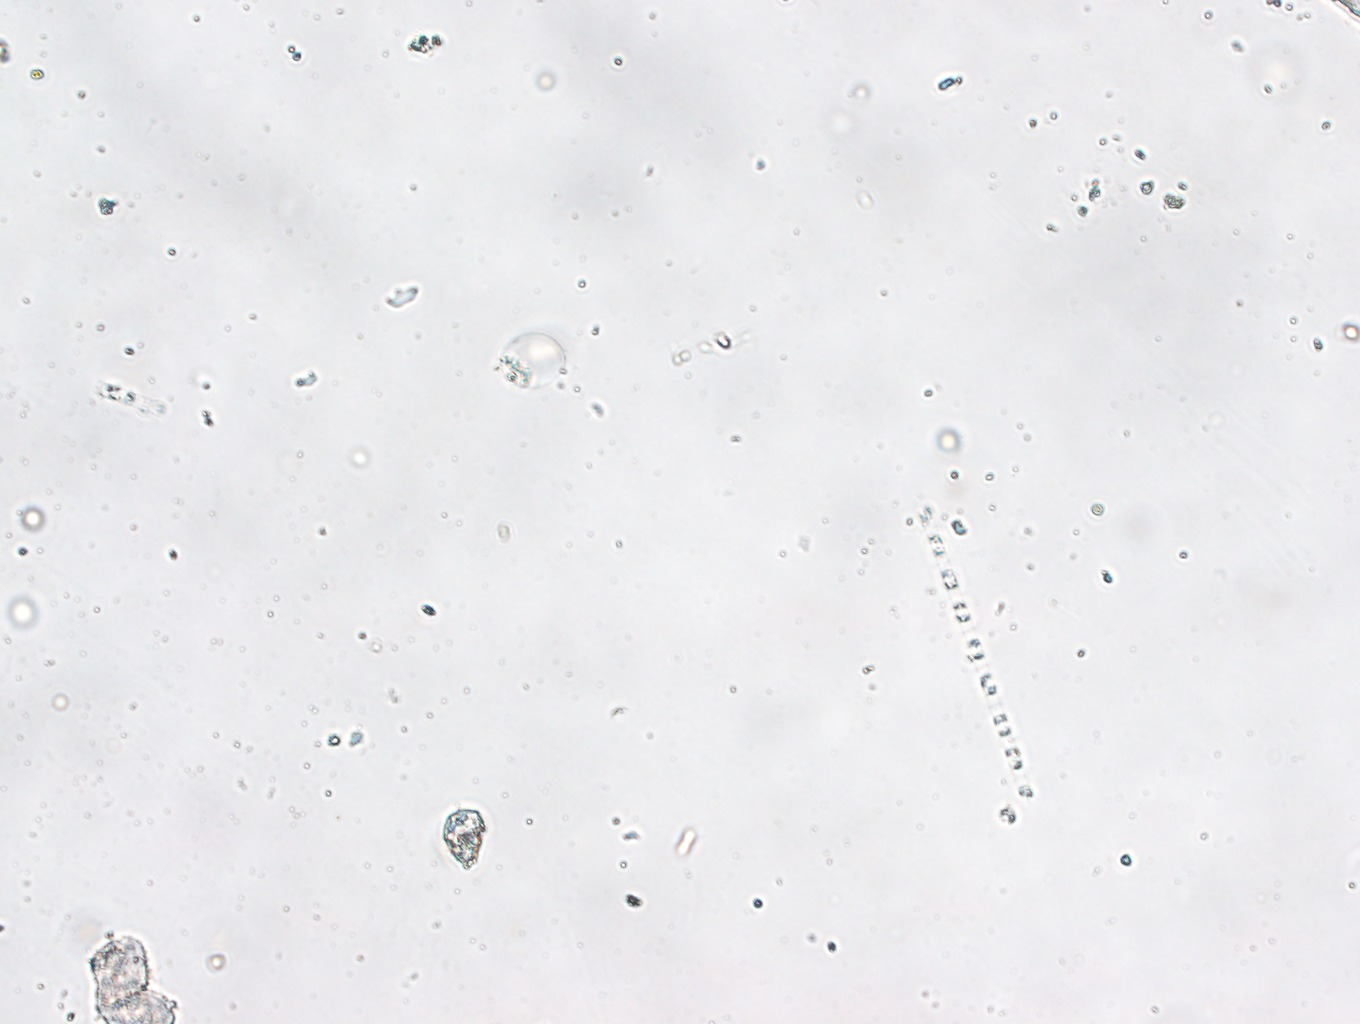skeletonema: (917, 500, 1035, 802)
